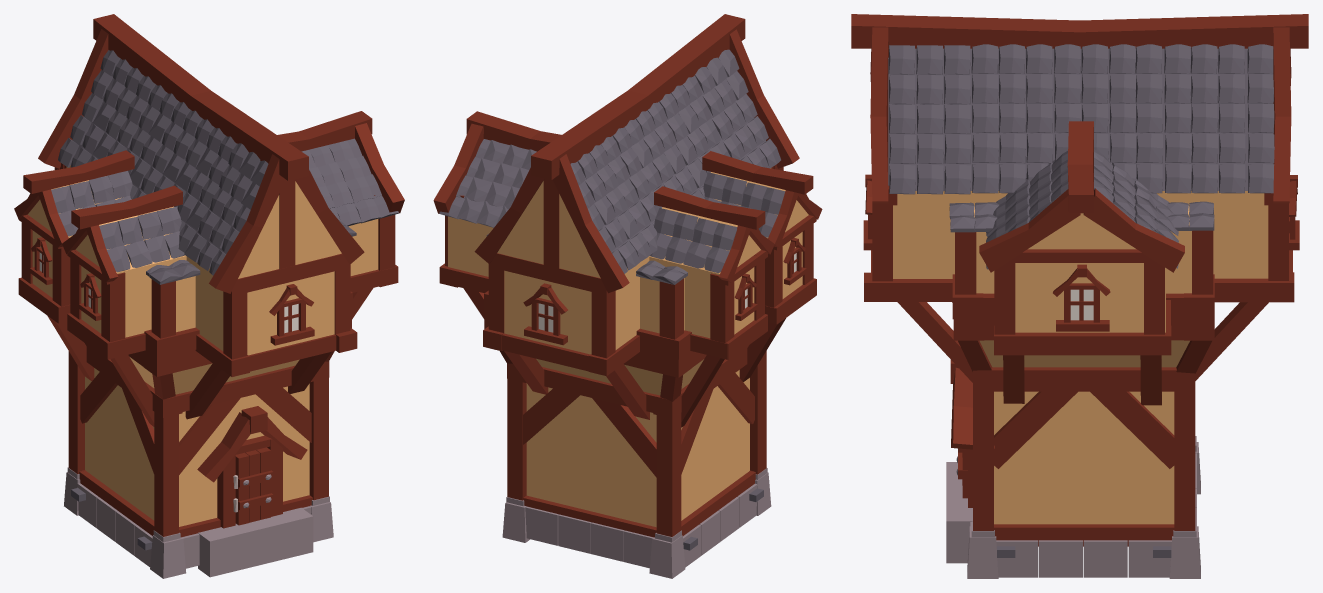
File: Rich_house.fbx
The picture shows the model from 3 angles, left to right: view 1: azimuth 30°, elevation 25°; view 2: azimuth 150°, elevation 25°; view 3: azimuth 270°, elevation 25°; orthographic projection. The views are drawn at different scales.
Parts seen in each view (by area): view 1: Rich_house; view 2: Rich_house; view 3: Rich_house.
Part boxes in pixels (x1=…): Rich_house: x1=14, y1=14, x2=404, y2=578; Rich_house: x1=433, y1=14, x2=822, y2=578; Rich_house: x1=851, y1=14, x2=1308, y2=578.
Size of the model in its own units: 326 by 305 by 403.
